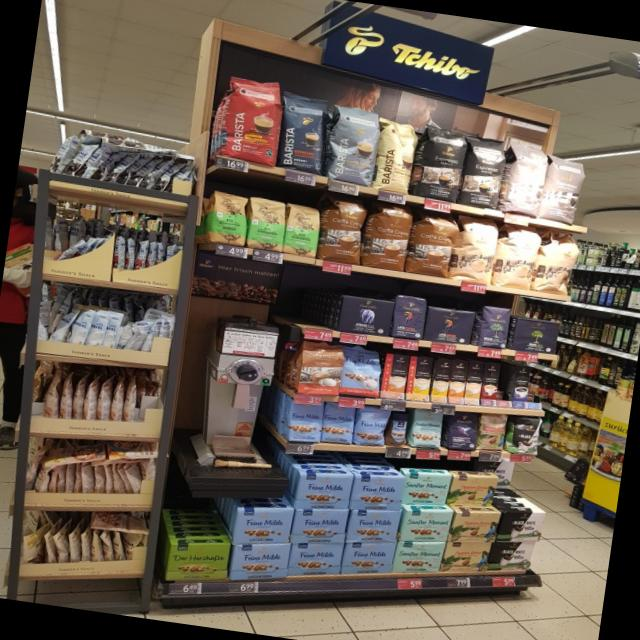AB Gemahlen: (338, 296, 395, 338)
Athiopien Bohne: (206, 188, 253, 248)
Athiopien Gemahlen: (244, 196, 290, 253), (281, 201, 324, 258)
BM Bohne: (477, 305, 512, 350)
BM Gemahlen: (511, 316, 562, 356)
BW Bohne: (508, 415, 546, 458)
BW Gemahlen: (497, 511, 547, 542), (488, 541, 537, 571)
Barista CB: (371, 116, 421, 196)
Barista CC: (322, 100, 384, 188)
Barista Espresso: (274, 89, 333, 175)
Barista Kolumbien: (209, 71, 288, 167)
C Fino Bohne: (444, 412, 481, 454)
CC Mild: (497, 136, 552, 220), (452, 213, 502, 286), (491, 222, 543, 292), (540, 152, 588, 226), (534, 229, 582, 296)
CC Vollmundig: (295, 339, 344, 398)
CC Vollmundig 36 Pads: (361, 200, 415, 272), (318, 193, 371, 265), (408, 207, 460, 280)
Colombia BB Bohne: (476, 413, 510, 453)
Colombia BB Gemahlen: (448, 511, 503, 543), (447, 475, 500, 508), (441, 543, 494, 572)
Empty Shelf: (497, 365, 516, 401), (528, 367, 546, 403)
Espresso Kraftig: (412, 124, 470, 204), (457, 130, 509, 211)
FM 36 Pads: (338, 346, 385, 400)
FM Bohne: (284, 400, 326, 446), (320, 402, 359, 445), (354, 407, 390, 449)
FM Gemahlen: (231, 543, 292, 581), (233, 508, 297, 544), (296, 474, 354, 510), (350, 475, 407, 511), (289, 542, 345, 577), (346, 511, 402, 545), (291, 510, 350, 542), (342, 542, 397, 576)
FM Instant: (384, 414, 412, 449)
Herzhatfe Mundig: (163, 544, 231, 581)
LG Bohne: (389, 293, 430, 342)
LG Gemahlen: (424, 305, 476, 347)
SM Bohne: (408, 408, 446, 452)
SM Gemahlen: (400, 509, 455, 542), (394, 542, 446, 573), (402, 474, 452, 505)
Simo CCMild: (406, 356, 434, 402)
Simo CCMild bigpack: (430, 357, 453, 403)
Simo CCVollmundig: (381, 353, 411, 400)
Simo CCVollmundig bigpack: (448, 359, 469, 405)
Simo Decaff: (464, 361, 485, 405)
Simo Es Caramel: (481, 362, 500, 407)
Simo Es Kraft: (512, 365, 531, 408)
